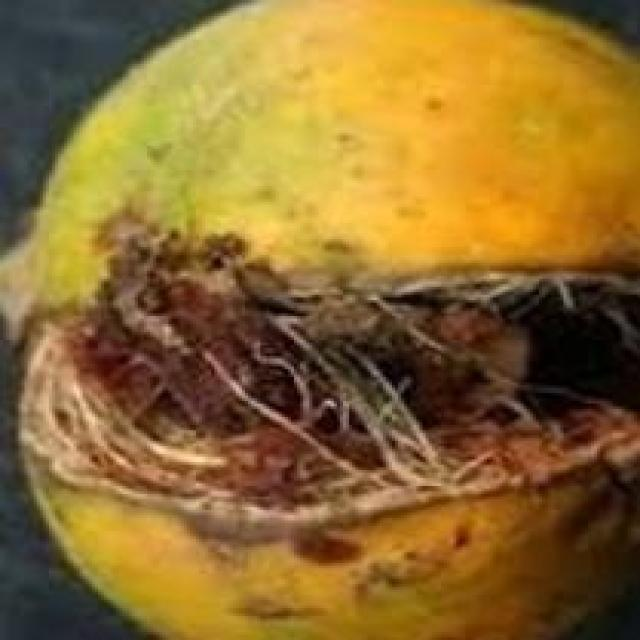damaged: (0, 0, 637, 637)
